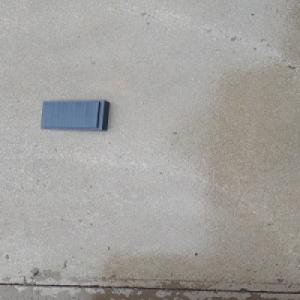PlasticPart: (39, 99, 110, 131)
